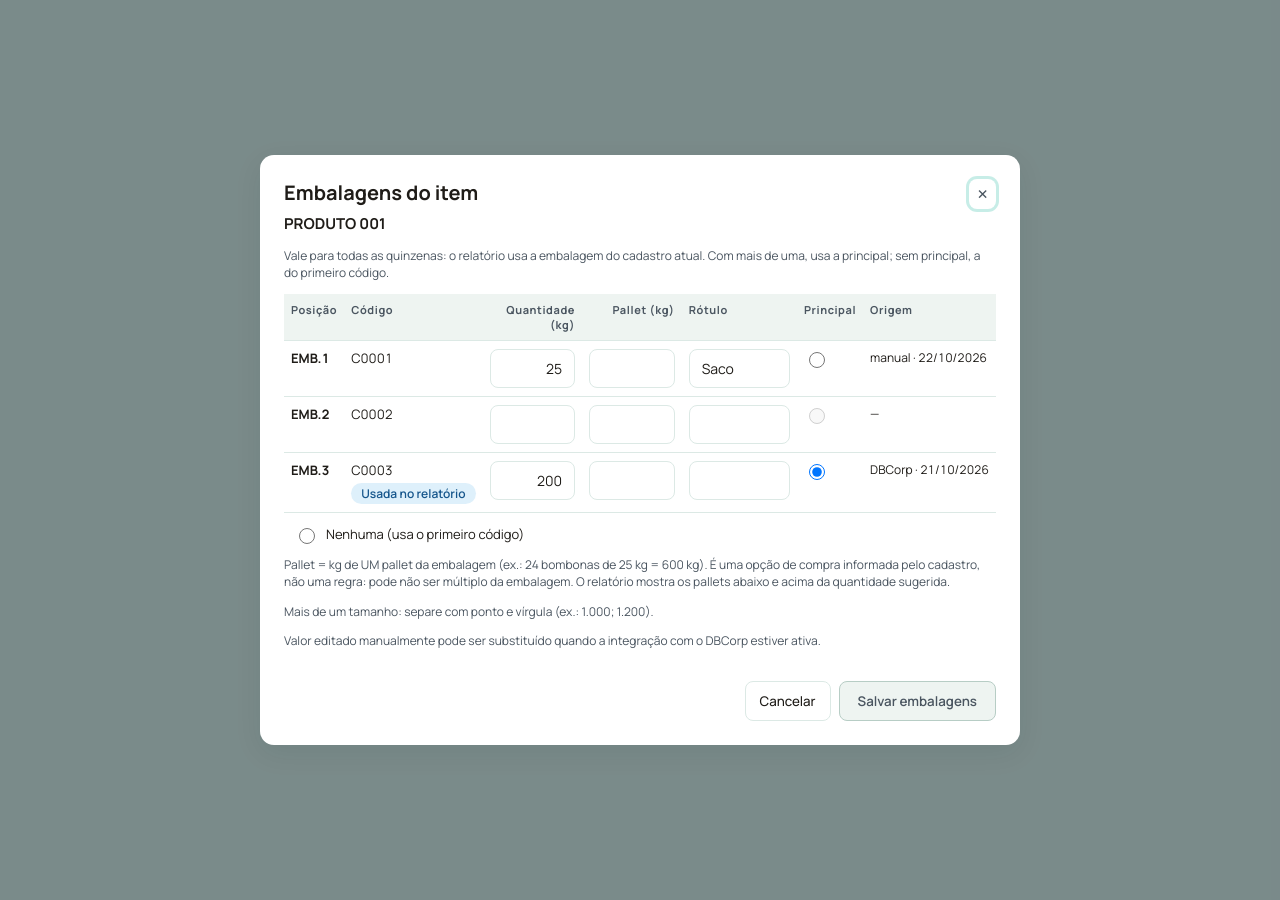
Scenario: ForecastEmbalagensModal › 400 do backend aparece em role="alert" e mantem a edicao
Check: the text "PRODUTO 001" is shown, box [284,213,386,235]
Replace the text in the field named "Quantidade em kg do código C0001" with "30" at x=532, y=368, box [490,349,575,388]
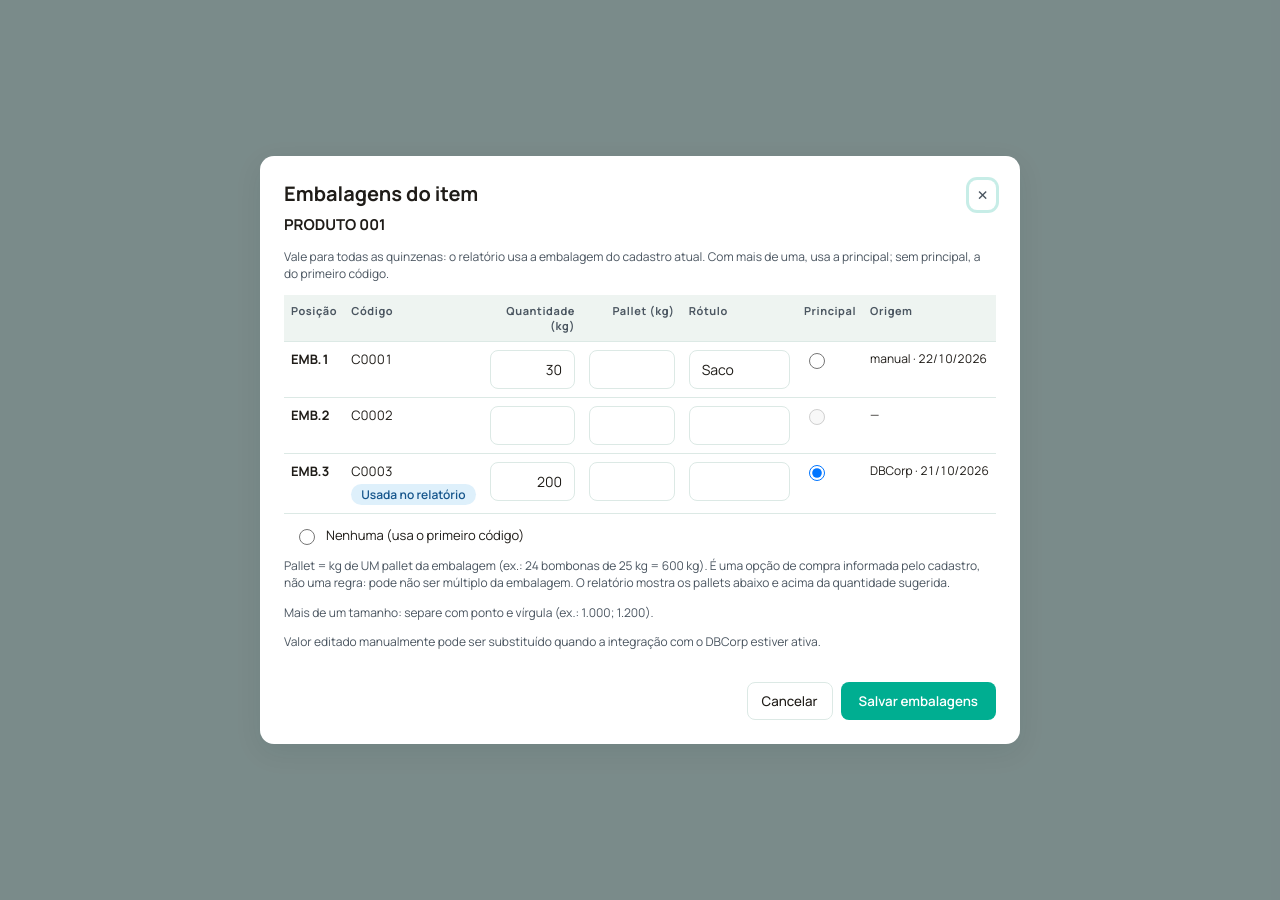
Click the button "Salvar embalagens" at x=918, y=701, box [841,682,996,720]
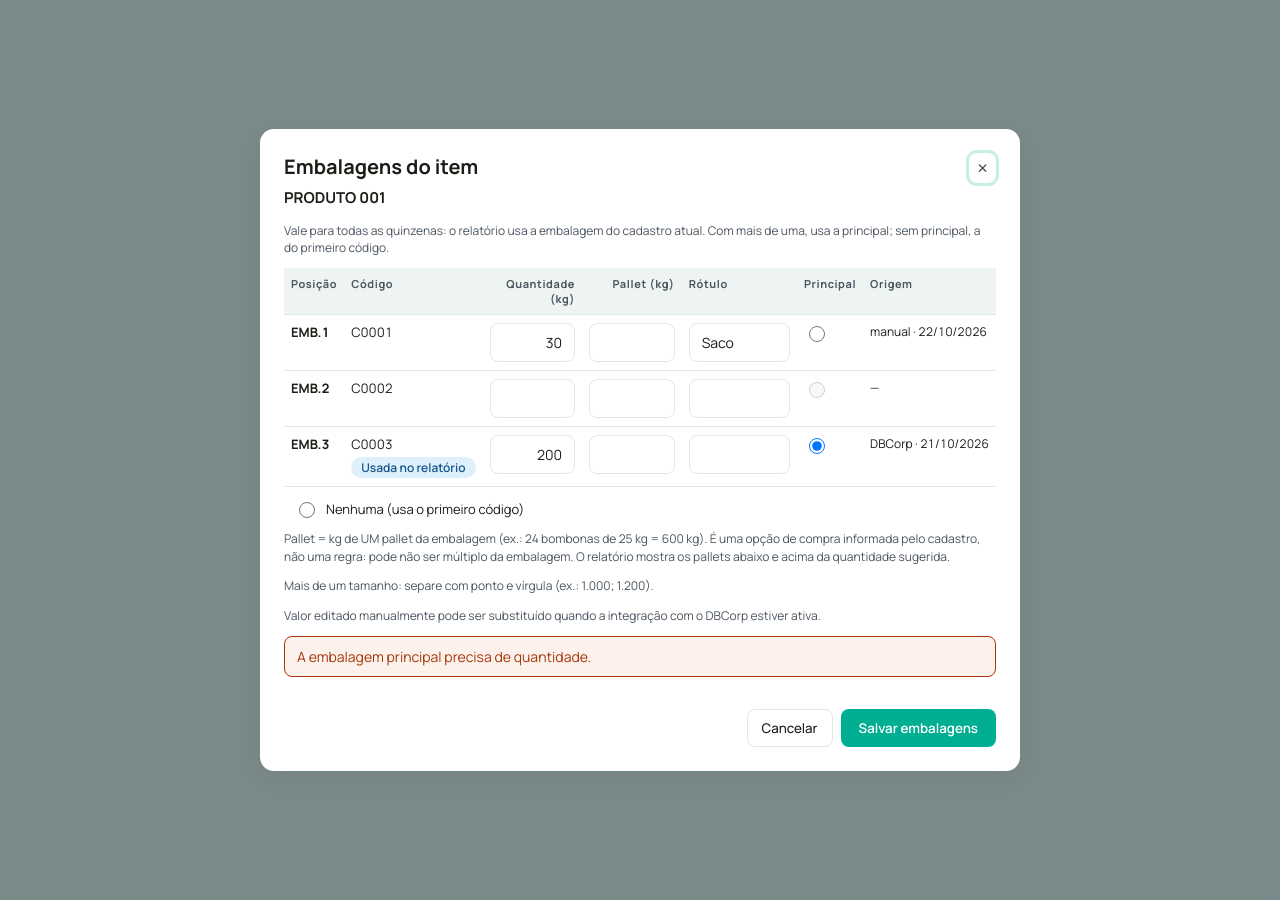
Check: the message reads "A embalagem principal precisa de quantidade.", box [297,647,591,666]
